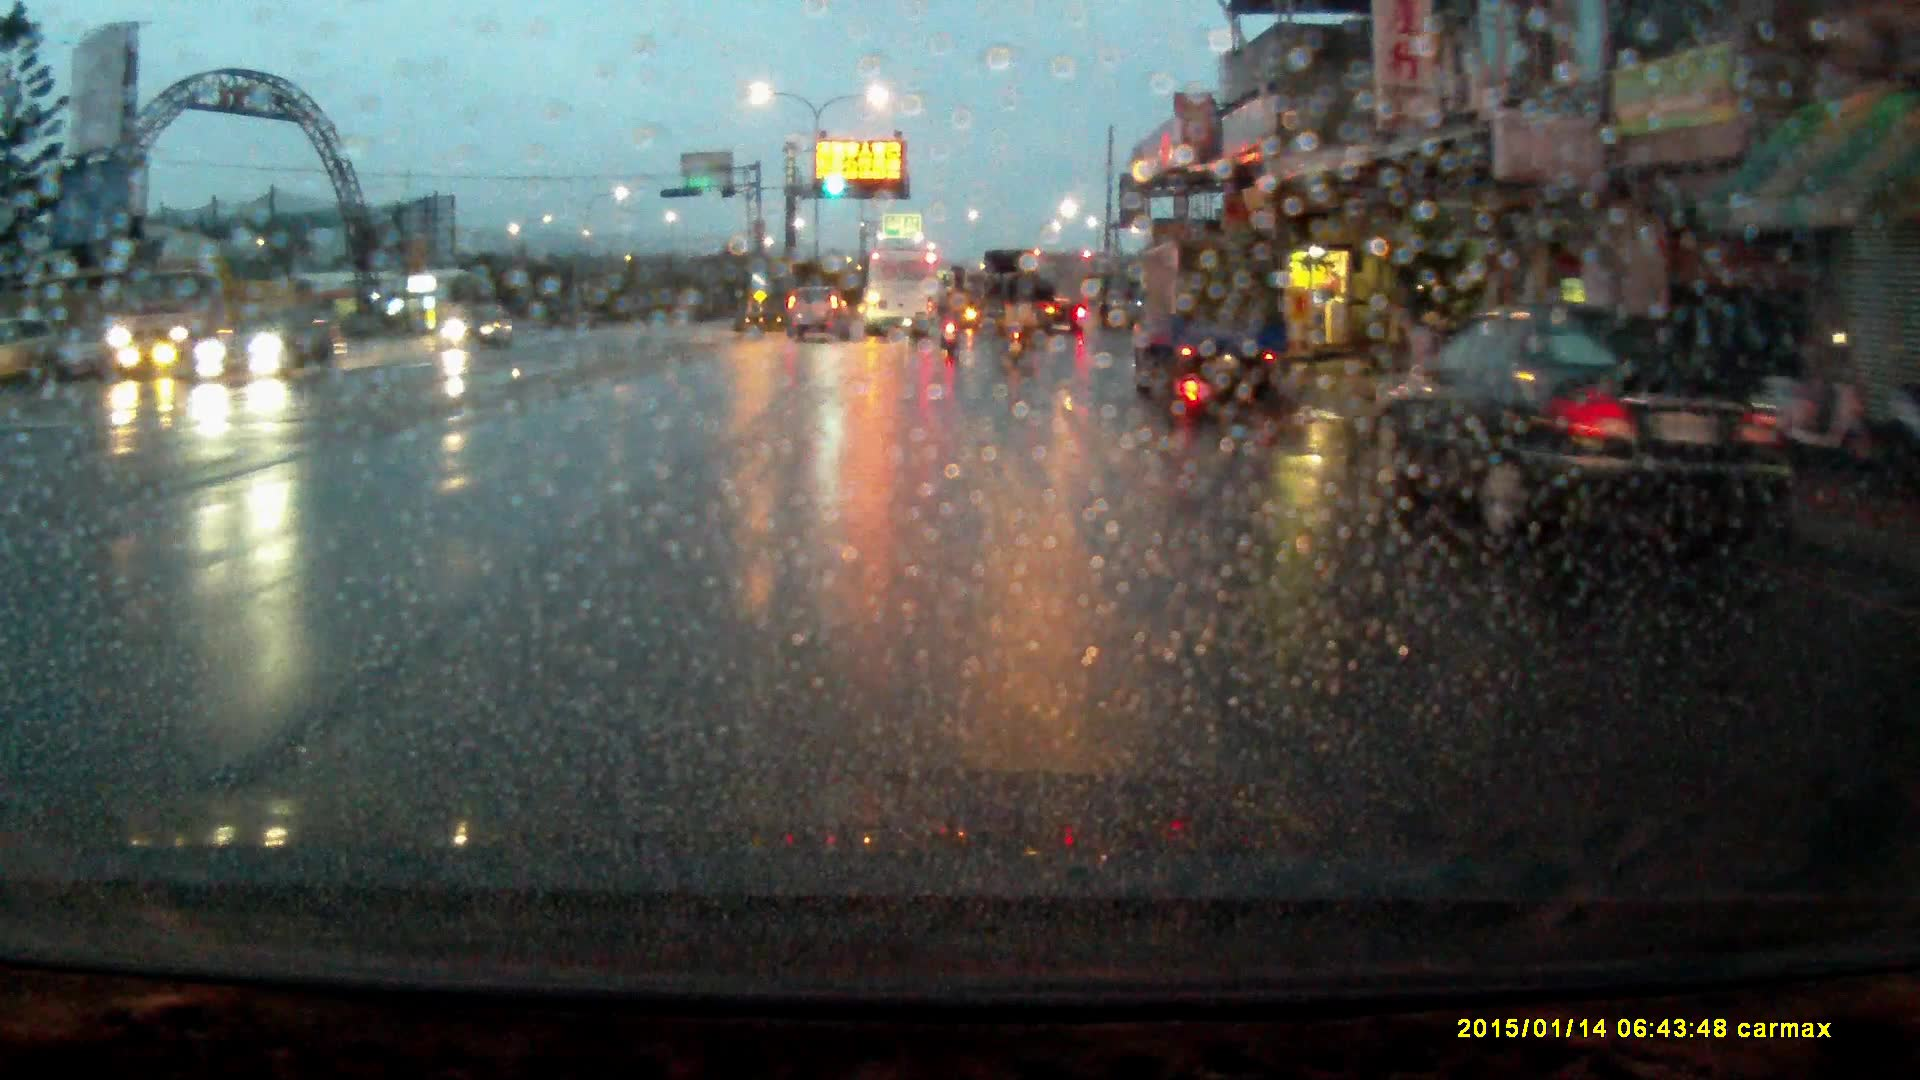rider: (999, 276, 1036, 359), (935, 283, 968, 353)
vehicle: (1375, 300, 1822, 551), (108, 254, 325, 375), (1130, 231, 1292, 387), (196, 312, 343, 388), (867, 246, 937, 338), (987, 252, 1054, 339), (1, 310, 71, 390), (436, 301, 519, 350), (787, 275, 852, 336)
